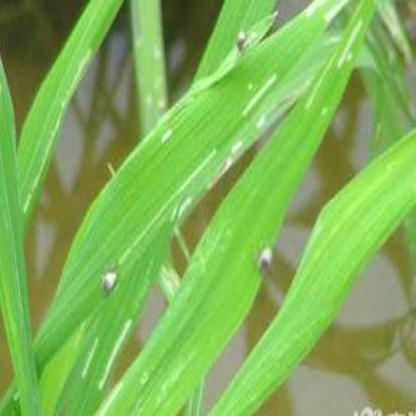rice-bug: (256, 246, 276, 276), (102, 262, 120, 295), (236, 30, 245, 52)
